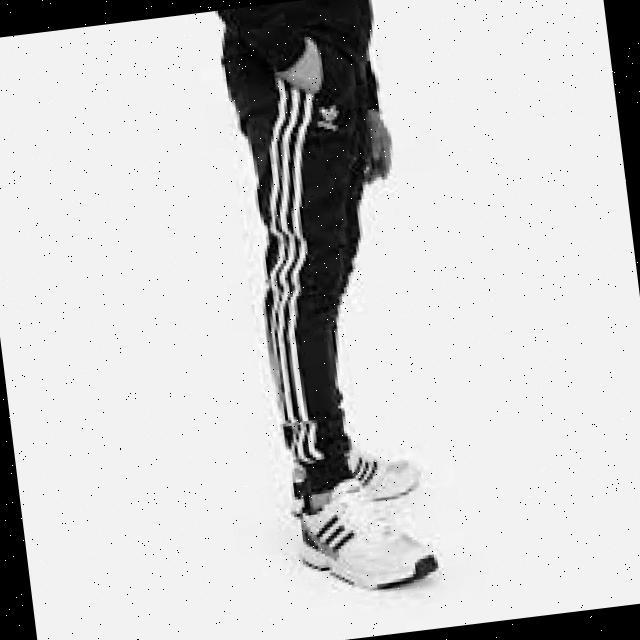Adidas: (308, 93, 346, 134)
